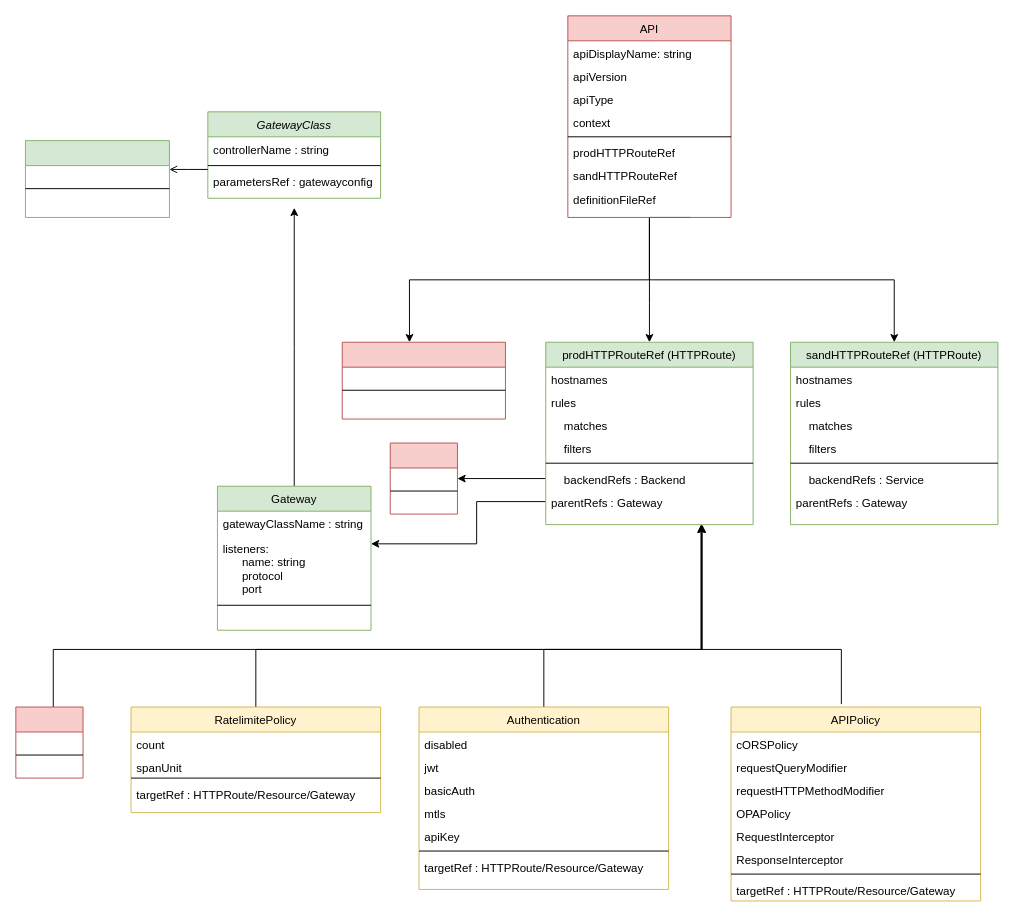
Image size: 1014x917. Some labels were removed from this diagram. The shapes that lost their labels are listed below. From the top down, each one's centre as x and y in pixels, then its label:
(96,178): gatewayconfig (ConfigMap)
(423,380): definitionFileRef (ConfigMap)
(423,478): Backend
(49,742): Scope
